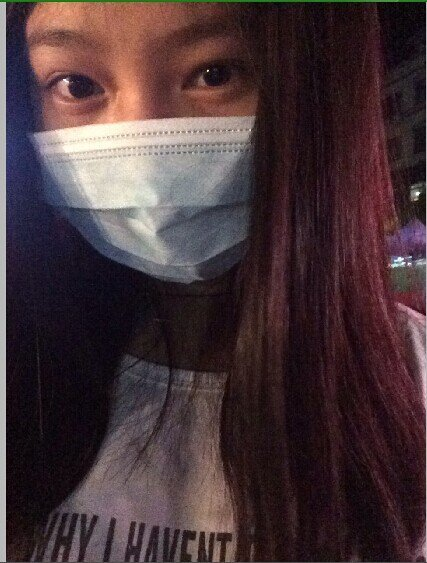face_mask: (26, 1, 266, 280)
